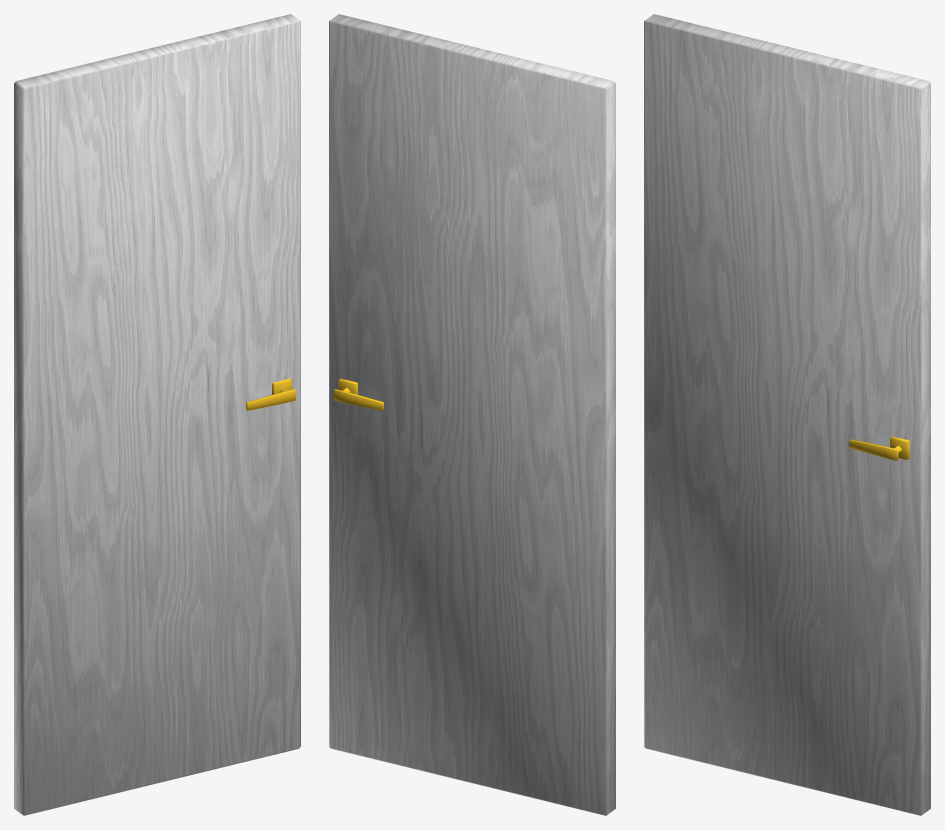
Rendered from door_3.glb.
3 views of the same model, side by side, from view 1: azimuth 30°, elevation 25°; view 2: azimuth 150°, elevation 25°; view 3: azimuth 330°, elevation 25° (orthographic).
Parts seen in each view (by area): view 1: Door3_Door3_0; view 2: Door3_Door3_0; view 3: Door3_Door3_0.
Boxes of the visible parts, left/top/right/bottom form: Door3_Door3_0: left=14, top=14, right=300, bottom=815; Door3_Door3_0: left=329, top=14, right=615, bottom=815; Door3_Door3_0: left=644, top=14, right=930, bottom=815.
Size of the model in its own units: 0.8 by 2 by 0.144.
1 material, 1 textured.
